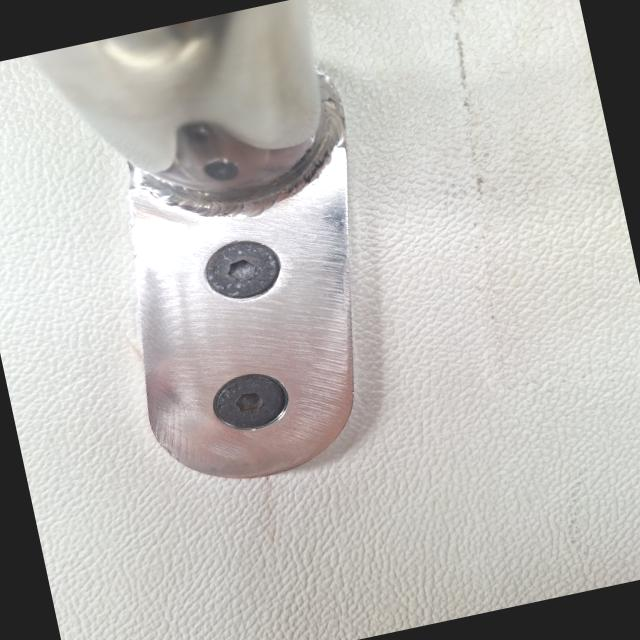Hex Socket Allen: (190, 229, 296, 309), (199, 360, 297, 438)
